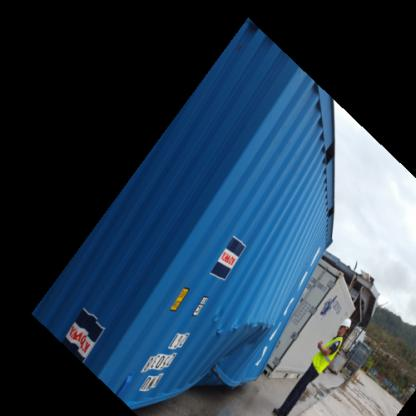Damage: (205, 309, 276, 387)
